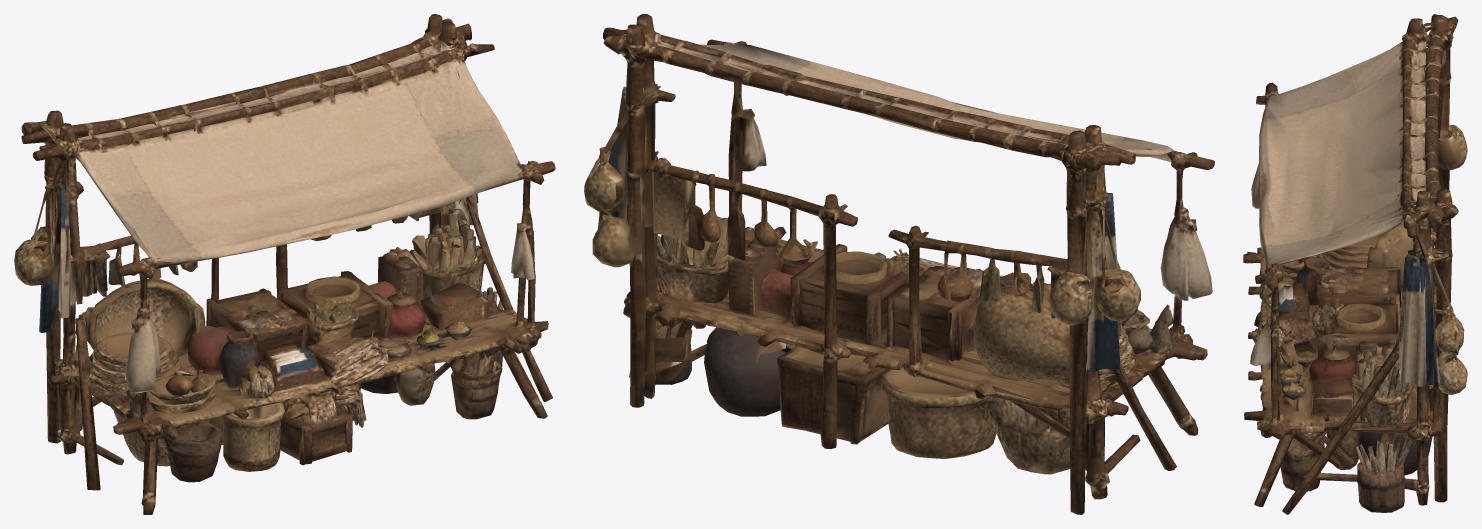
Rendered from 10_Miscellaneous_Household_Stall_LOD1.fbx.
3 views of the same model, side by side, from view 1: azimuth 30°, elevation 25°; view 2: azimuth 150°, elevation 25°; view 3: azimuth 270°, elevation 25° (orthographic). The views are drawn at different scales.
Parts seen in each view (by area): view 1: 10_Miscellaneous_Household_Stall_L1; view 2: 10_Miscellaneous_Household_Stall_L1; view 3: 10_Miscellaneous_Household_Stall_L1.
Boxes of the visible parts, x1,y1,x2,y2 form: 10_Miscellaneous_Household_Stall_L1: (14, 14, 555, 514); 10_Miscellaneous_Household_Stall_L1: (584, 14, 1214, 514); 10_Miscellaneous_Household_Stall_L1: (1243, 14, 1467, 514).
Bounding box in the file's own units: 3.54 × 2.4 × 1.57.
